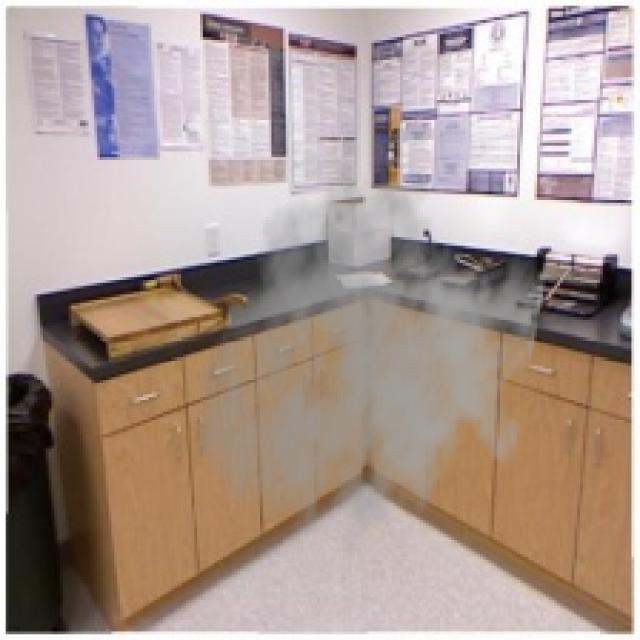Smoke: (192, 154, 548, 577)
